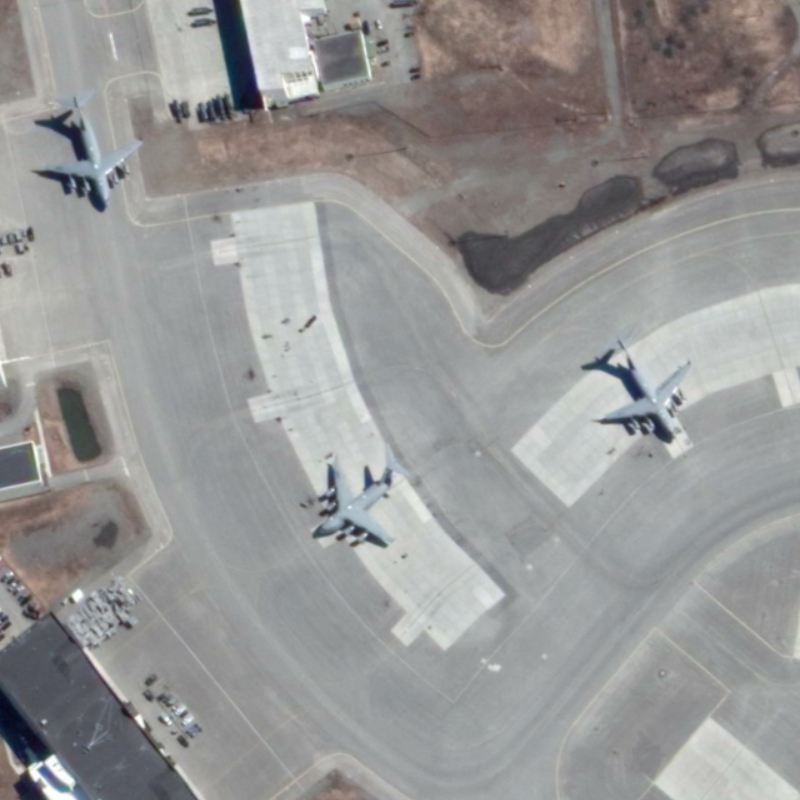A3: (25, 80, 151, 213), (304, 443, 415, 557), (591, 327, 697, 444)
